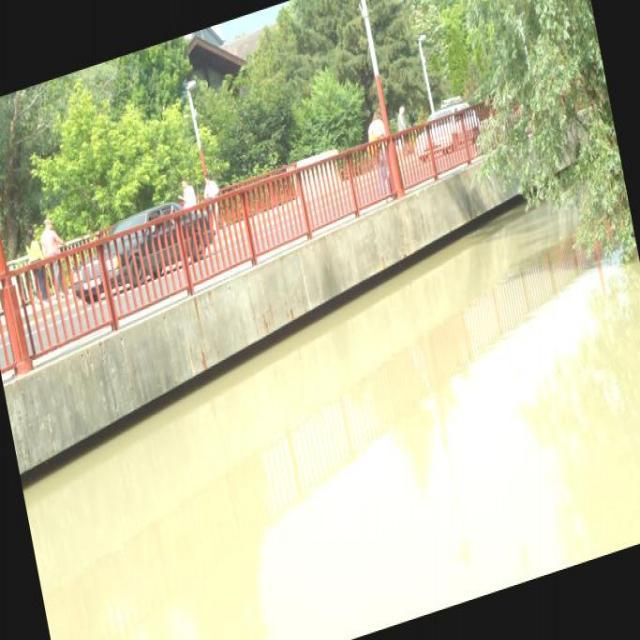flood: (3, 184, 639, 639)
